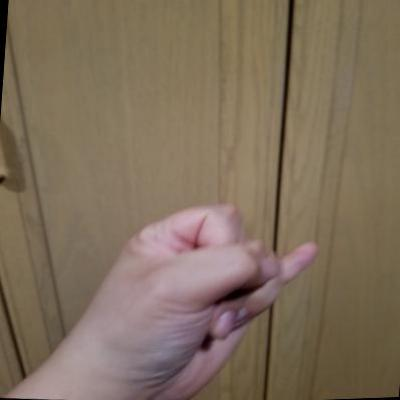hand: (59, 180, 337, 399)
